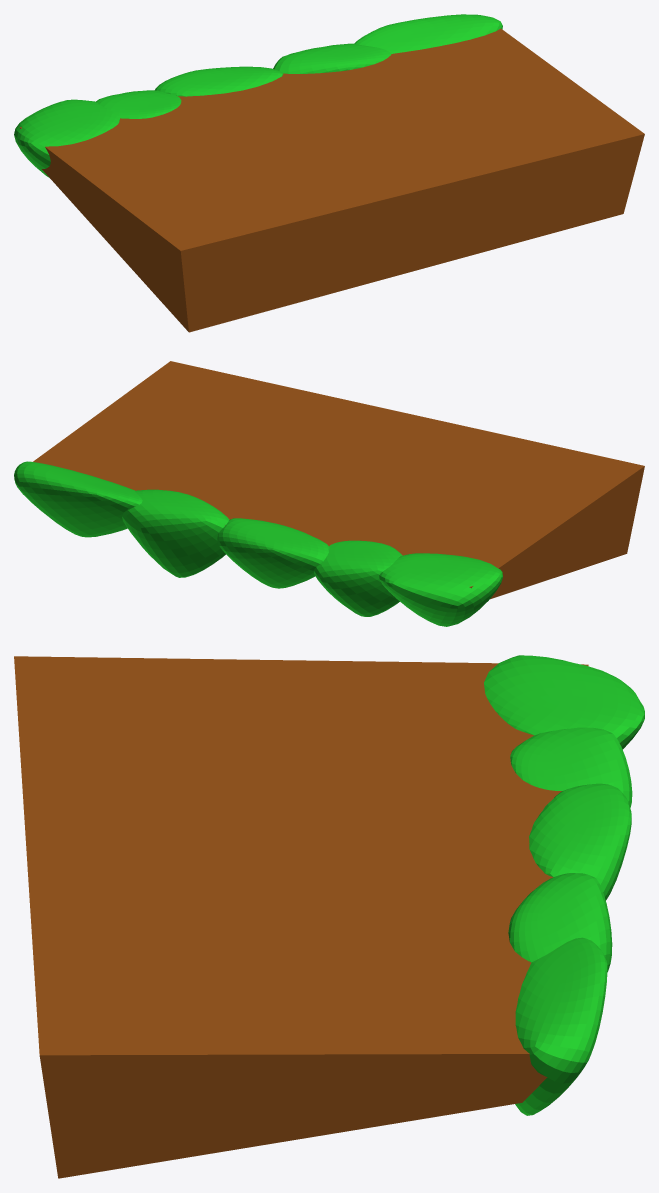
Rendered from stage1_small.fbx.
The picture shows the model from 3 angles, top to bottom: view 1: azimuth 30°, elevation 25°; view 2: azimuth 150°, elevation 25°; view 3: azimuth 270°, elevation 25°; orthographic projection. The views are drawn at different scales.
Visible parts, largest first — view 1: Cube, Cube.002, Cube.008, Cube.005, Cube.007, Cube.004; view 2: Cube, Cube.007, Cube.002, Cube.008, Cube.005, Cube.004; view 3: Cube, Cube.008, Cube.002, Cube.005, Cube.007, Cube.004.
Boxes of the visible parts, x1,y1,x2,y2 form: Cube: (19, 28, 644, 332); Cube.002: (14, 99, 119, 177); Cube.008: (354, 14, 502, 53); Cube.005: (155, 66, 283, 96); Cube.007: (273, 43, 391, 73); Cube.004: (96, 90, 181, 118); Cube: (33, 361, 644, 599); Cube.007: (122, 489, 229, 577); Cube.002: (379, 553, 502, 626); Cube.008: (14, 461, 142, 537); Cube.005: (217, 518, 329, 588); Cube.004: (313, 540, 402, 616); Cube: (14, 656, 588, 1178); Cube.008: (515, 937, 607, 1115); Cube.002: (484, 655, 644, 749); Cube.005: (529, 783, 631, 900); Cube.007: (508, 873, 612, 972); Cube.004: (510, 727, 632, 807).
Size of the model in its own units: 12.76 by 2.41 by 8.45.
